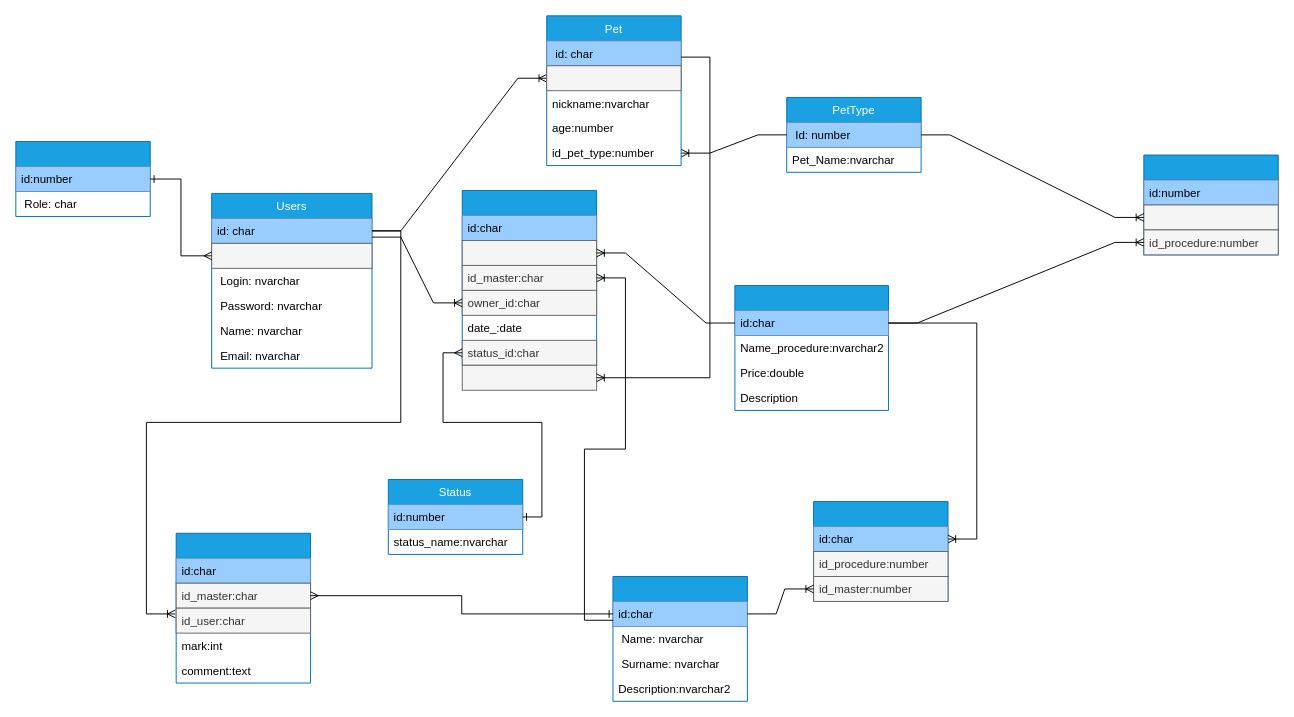
Some shapes in this 1294 by 717 pixel diagram are drawn without their labels. Here are the shapes that lost their labels. From the top down, the box of each, then its label:
(546, 65, 681, 91): id_owner: char
(15, 141, 150, 216): Roles
(1143, 154, 1278, 255): Pet_to_procedure
(1143, 204, 1278, 230): id_pet:number
(211, 242, 372, 268): Id_role: number
(461, 240, 597, 265): id_procedure:char
(461, 190, 597, 365): Schedule
(734, 285, 888, 410): Procedure_table
(461, 364, 597, 390): pet_id:char
(813, 501, 948, 601): Master_to_procedure
(175, 532, 311, 683): Raiting
(612, 576, 747, 701): Master
